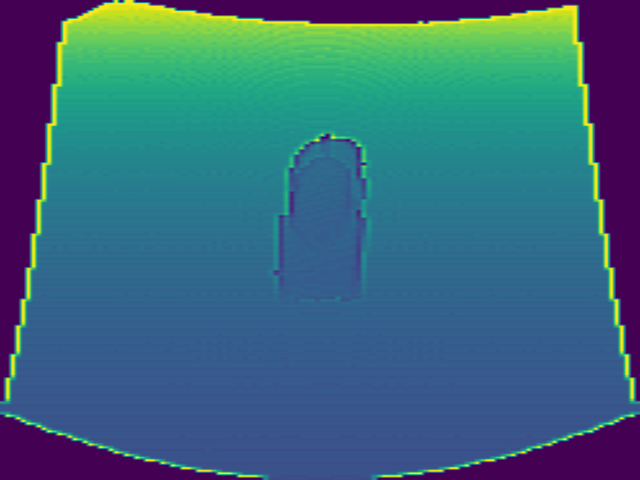car_0027: (264, 131, 377, 305)
